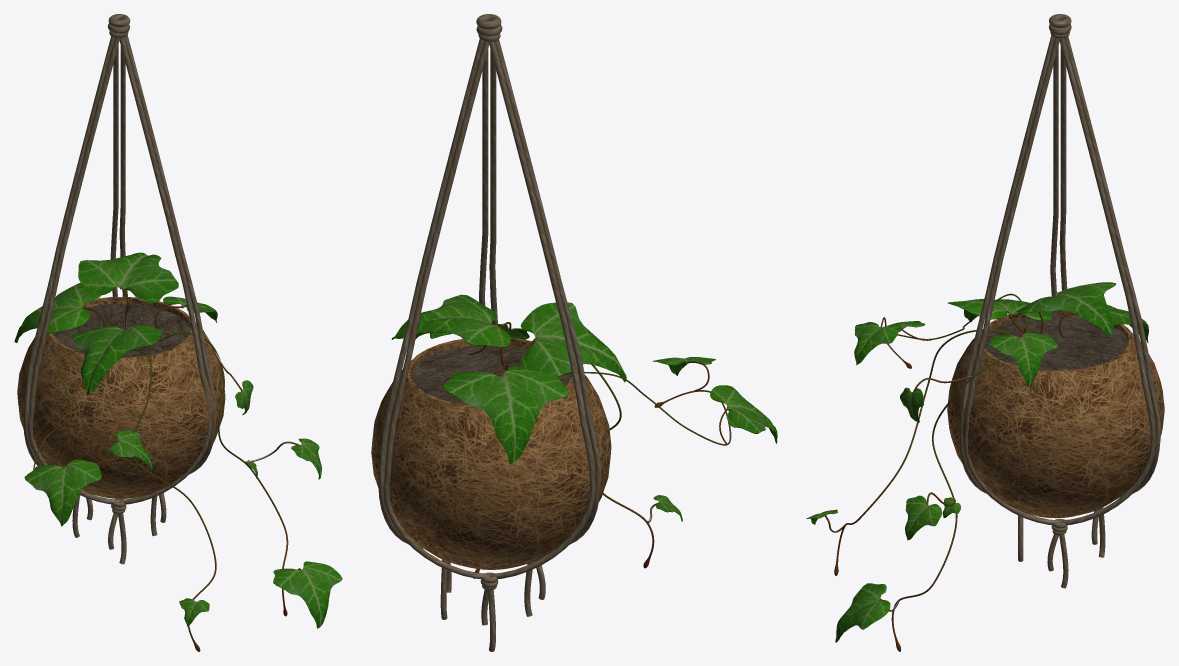
The model's file is MEGA_PACK_Plant__plant-144523_frame.glb.
3 renders of one model, left to right at view 1: azimuth 30°, elevation 25°; view 2: azimuth 150°, elevation 25°; view 3: azimuth 270°, elevation 25°, orthographic. The views are drawn at different scales.
Parts seen in each view (by area): view 1: plant-144523_frame; view 2: plant-144523_frame; view 3: plant-144523_frame.
Boxes of the visible parts, x1=… form: plant-144523_frame: x1=14, y1=14, x2=342, y2=651; plant-144523_frame: x1=371, y1=14, x2=777, y2=651; plant-144523_frame: x1=806, y1=14, x2=1164, y2=651.
Bounding box in the file's own units: 0.2018 × 0.3582 × 0.1977.
1 material, 1 textured.
